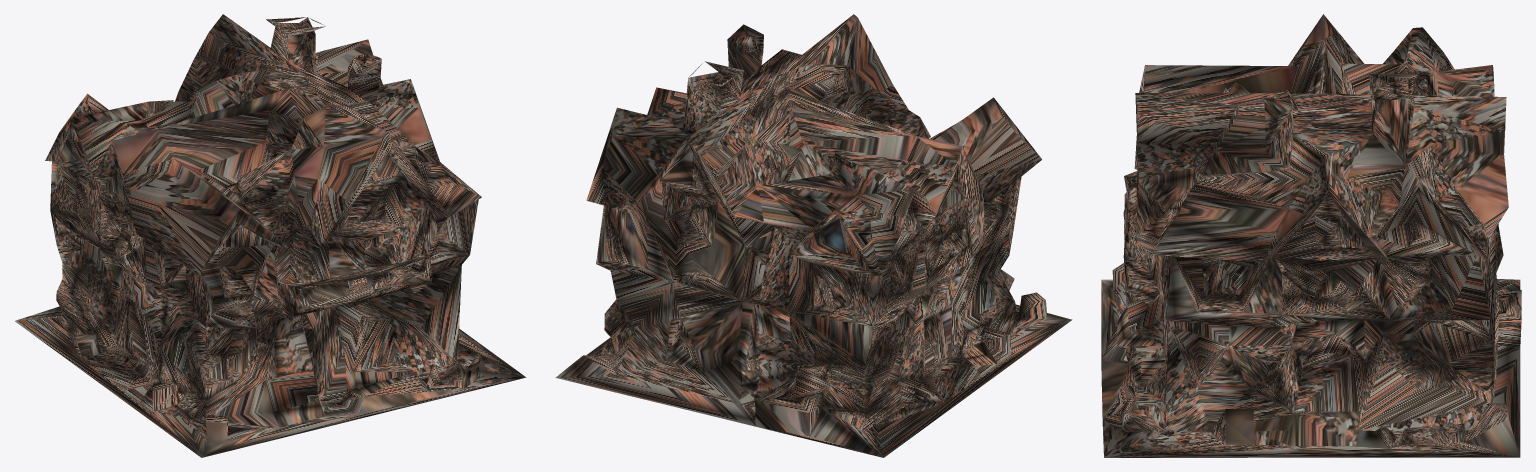
Rendered from A_modular_medieval_ho.glb.
3 renders of one model, left to right at view 1: azimuth 30°, elevation 25°; view 2: azimuth 150°, elevation 25°; view 3: azimuth 270°, elevation 25°, orthographic. The views are drawn at different scales.
Parts seen in each view (by area): view 1: A_modular_medieval_ho; view 2: A_modular_medieval_ho; view 3: A_modular_medieval_ho.
Part boxes in pixels (x1,y1,x2,y2): A_modular_medieval_ho: [15, 14, 526, 457]; A_modular_medieval_ho: [555, 14, 1072, 457]; A_modular_medieval_ho: [1101, 14, 1521, 457].
Size of the model in its own units: 2 by 1.67 by 1.99.
1 material, 1 textured.
